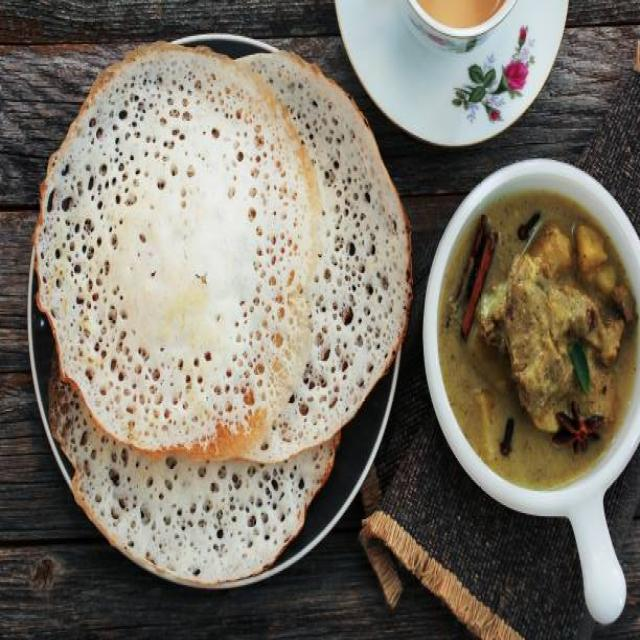AAPAM: (31, 44, 411, 585)
CURRY: (438, 193, 639, 488)
